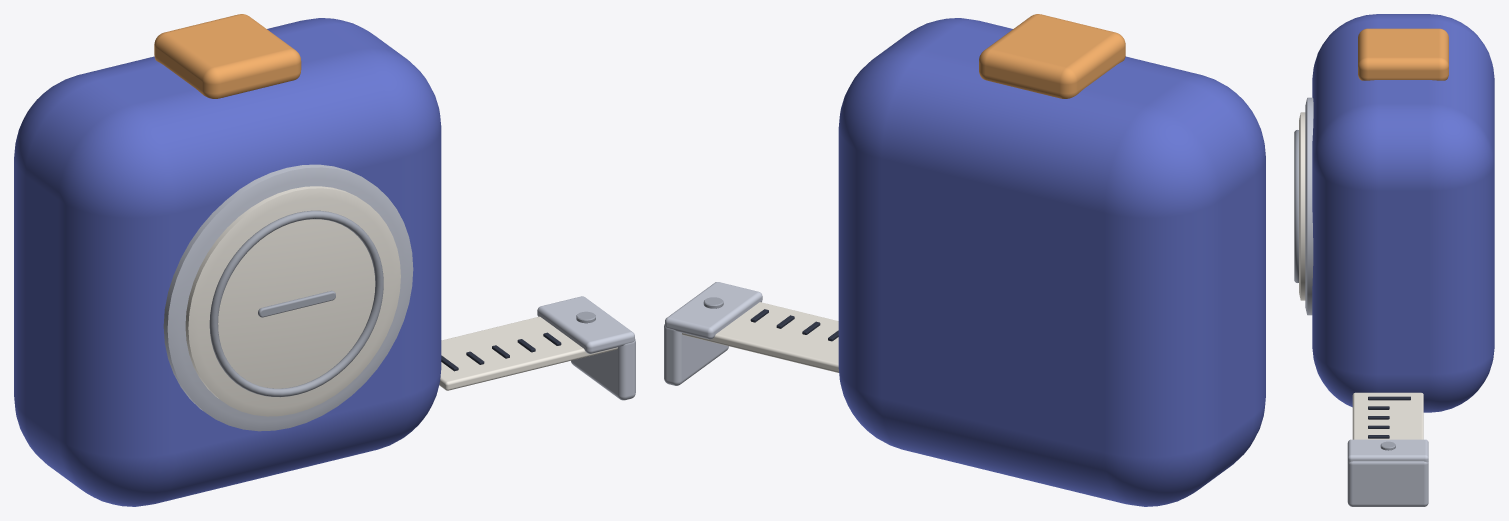
Rendered from measuring-tape.glb.
The picture shows the model from 3 angles, left to right: view 1: azimuth 30°, elevation 25°; view 2: azimuth 150°, elevation 25°; view 3: azimuth 270°, elevation 25°; orthographic projection. The views are drawn at different scales.
Visible parts, largest first — view 1: measuring-tape; view 2: measuring-tape; view 3: measuring-tape.
Part boxes in pixels (left/top/right/bottom): measuring-tape: left=14, top=14, right=635, bottom=506; measuring-tape: left=664, top=14, right=1265, bottom=506; measuring-tape: left=1294, top=14, right=1494, bottom=506.
Bounding box in the file's own units: 1.96 × 1.41 × 0.791.
